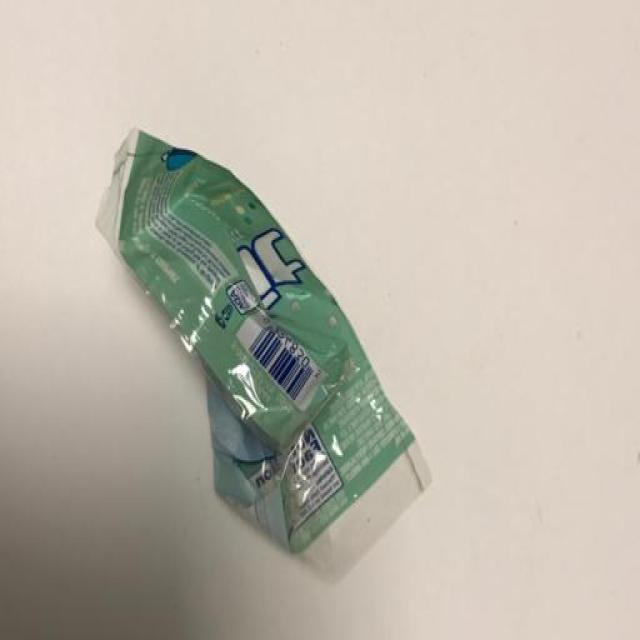Random Trash: (94, 130, 432, 587)
